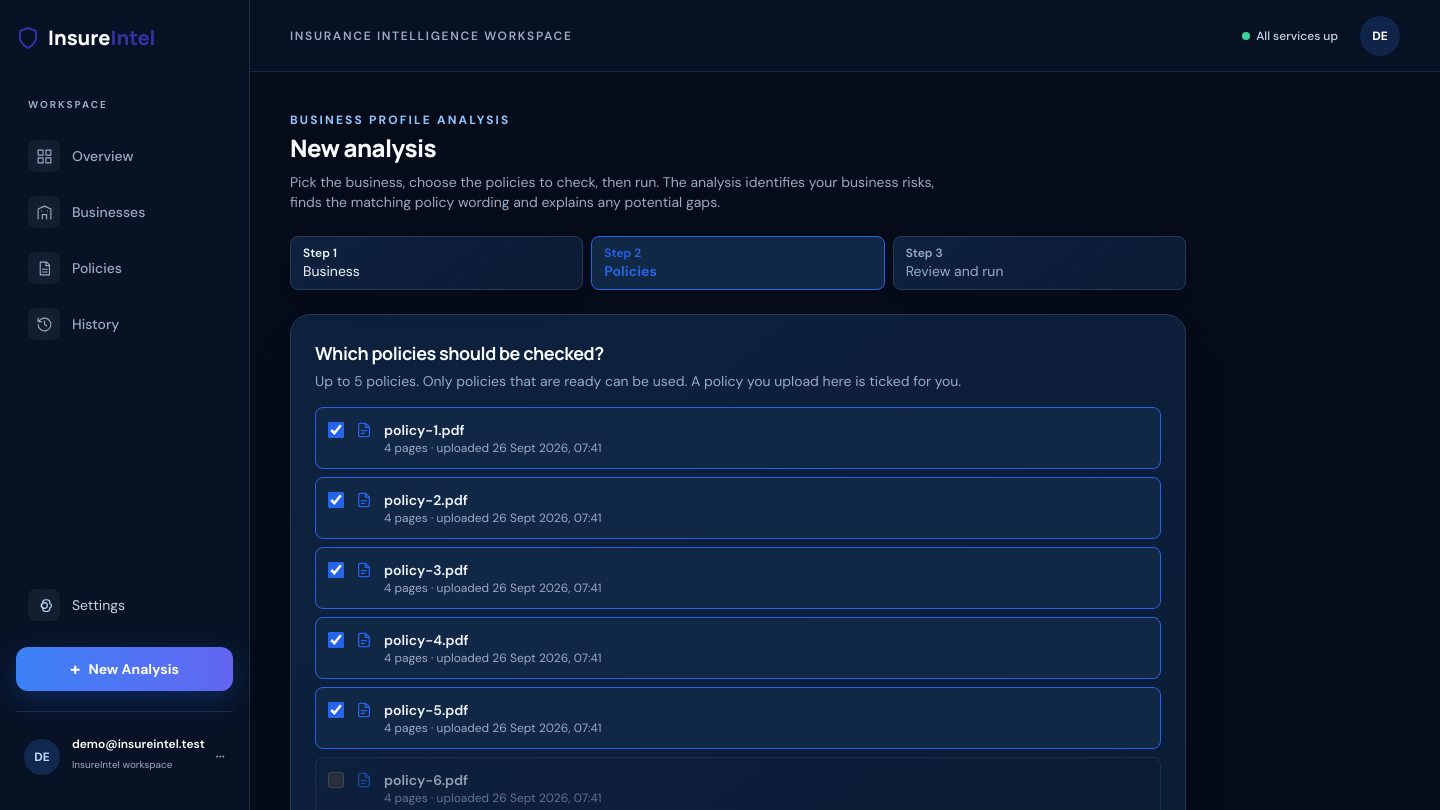
Test case: new analysis: step 2, the policies › allows at most 5 policies
The width and height of the screenshot is (1440, 810).
Check: the heading "New analysis" is shown, box [290,131,436,164]
Check: the checkbox labelled "policy-6.pdf 4 pages · uploaded 26 Sept 2026, 07:41" is disabled, box [328,772,344,788]
Click the checkbox labelled "policy-1.pdf 4 pages · uploaded 26 Sept 2026, 07:41": (336, 430) [328,422,344,438]
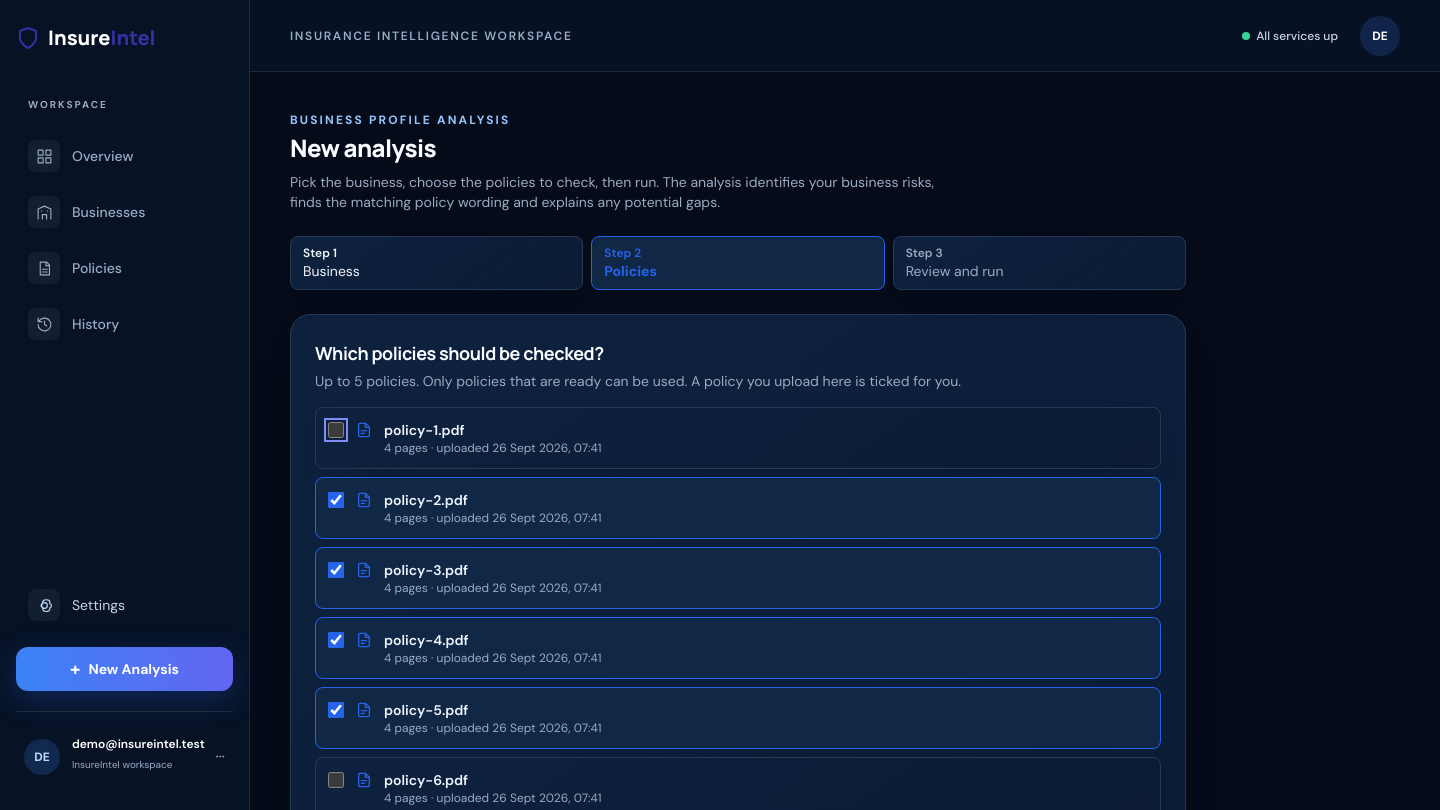
Check: the checkbox labelled "policy-6.pdf 4 pages · uploaded 26 Sept 2026, 07:41" is enabled
Click the checkbox labelled "policy-6.pdf 4 pages · uploaded 26 Sept 2026, 07:41": (336, 780) [328,772,344,788]
(page scrolled)
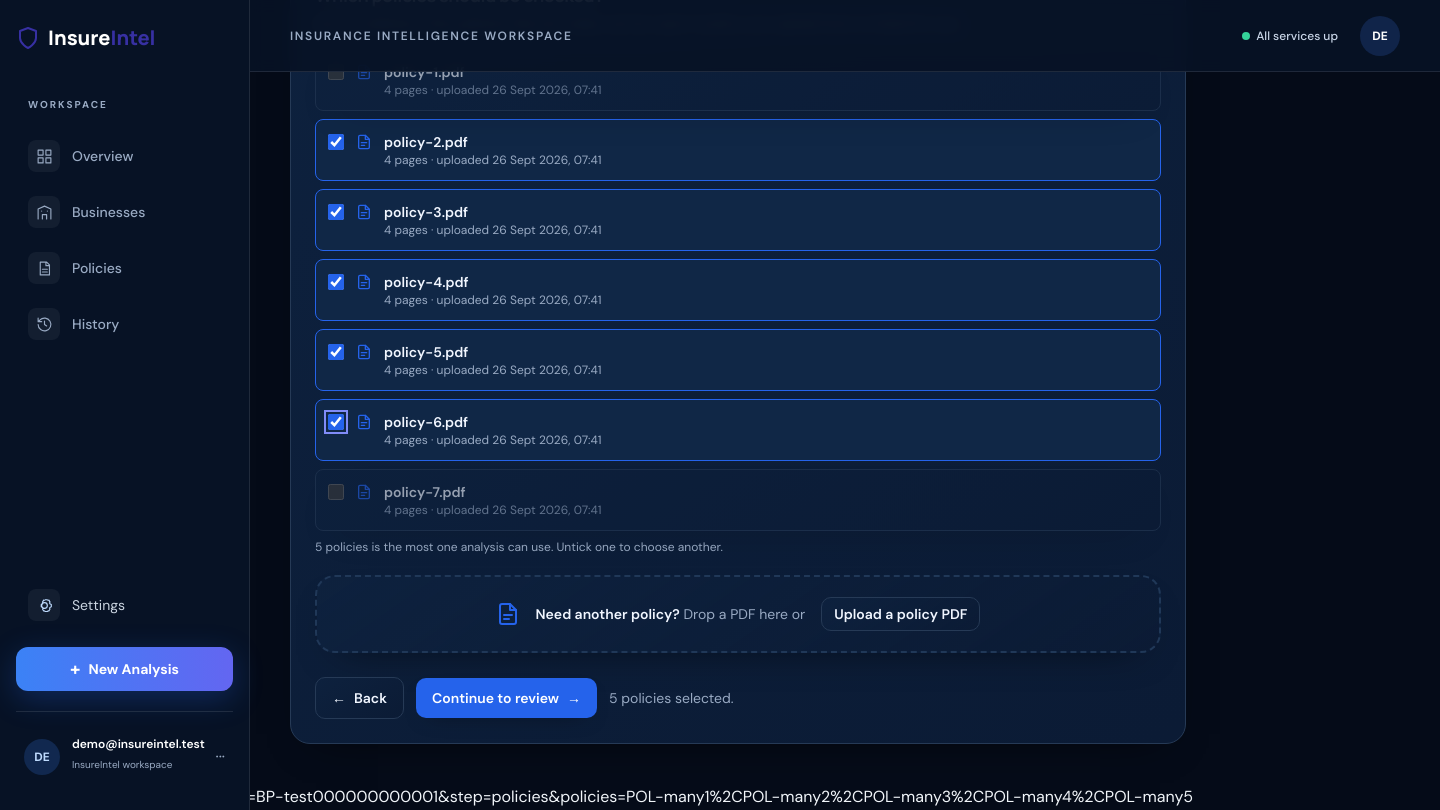
Check: the checkbox labelled "policy-6.pdf 4 pages · uploaded 26 Sept 2026, 07:41" is checked, box [328,414,344,430]
Check: the checkbox labelled "policy-7.pdf 4 pages · uploaded 26 Sept 2026, 07:41" is disabled, box [328,484,344,500]
